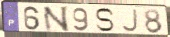6: (23, 6, 41, 31)
8: (144, 8, 165, 34)
9: (72, 7, 90, 32)
J: (120, 8, 139, 33)
N: (42, 5, 71, 32)
S: (94, 7, 115, 33)
